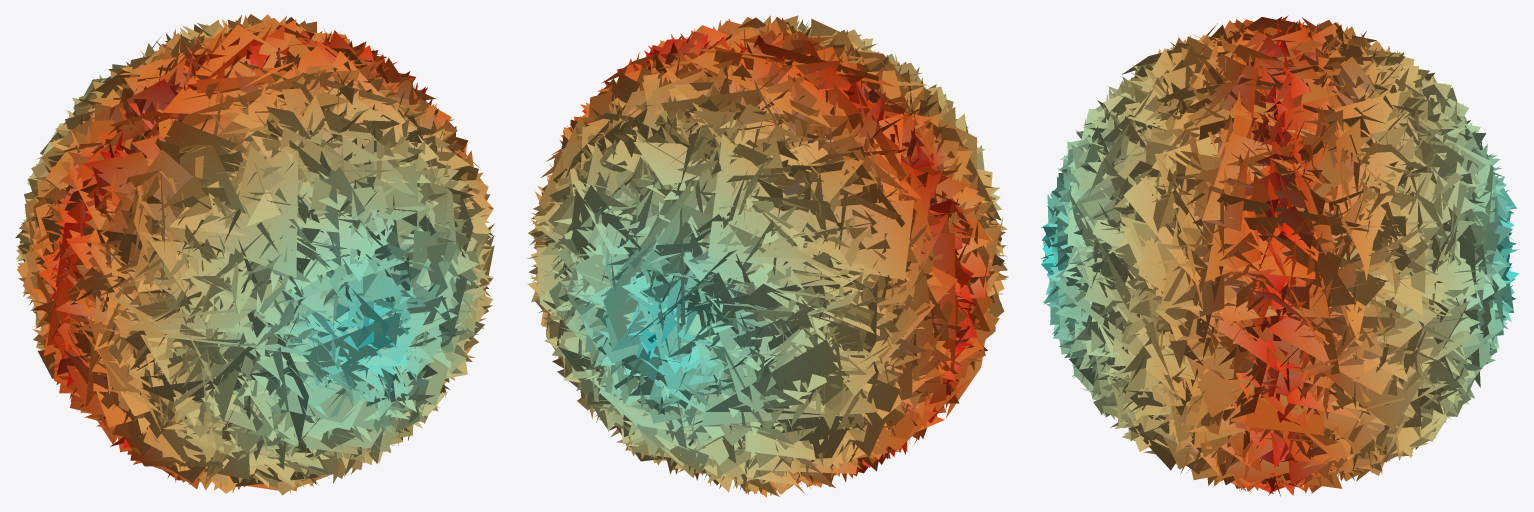
File: pointcloud.glb
3 views of the same model, side by side, from view 1: azimuth 30°, elevation 25°; view 2: azimuth 150°, elevation 25°; view 3: azimuth 270°, elevation 25° (orthographic).
Visible parts, largest first — view 1: cloud; view 2: cloud; view 3: cloud.
Part boxes in pixels (x1=…): cloud: x1=15, y1=14, x2=494, y2=495; cloud: x1=527, y1=15, x2=1008, y2=497; cloud: x1=1040, y1=15, x2=1519, y2=496.
Size of the model in its own units: 1.09 by 1.1 by 1.09.
